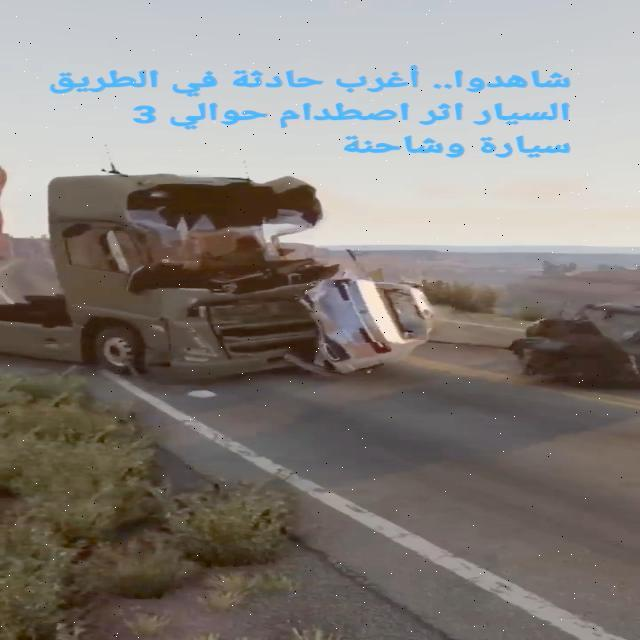accident: (35, 174, 429, 389)
